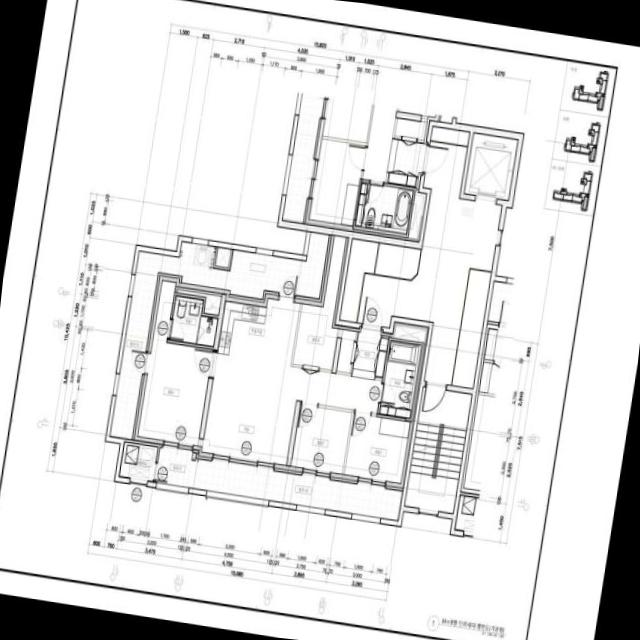background: (0, 0, 640, 640)
space_balconi: (110, 232, 329, 439), (154, 445, 402, 520)
space_bedroom: (137, 280, 212, 445), (343, 413, 410, 484), (291, 405, 351, 474)
space_elevator_hall: (357, 132, 517, 384)
space_front: (351, 327, 388, 379)
space_kitchen: (217, 298, 300, 366)
space_living_room: (201, 355, 381, 465)
space_other: (292, 235, 346, 370), (451, 269, 491, 388), (340, 239, 378, 322), (374, 243, 420, 279), (176, 289, 221, 315), (336, 329, 357, 373), (430, 127, 469, 146), (394, 325, 426, 343), (215, 248, 231, 267)
space_outdoor_room: (119, 441, 157, 481)
space_staircase: (404, 386, 471, 513)
space_toilet: (378, 340, 422, 419), (168, 295, 218, 347)
